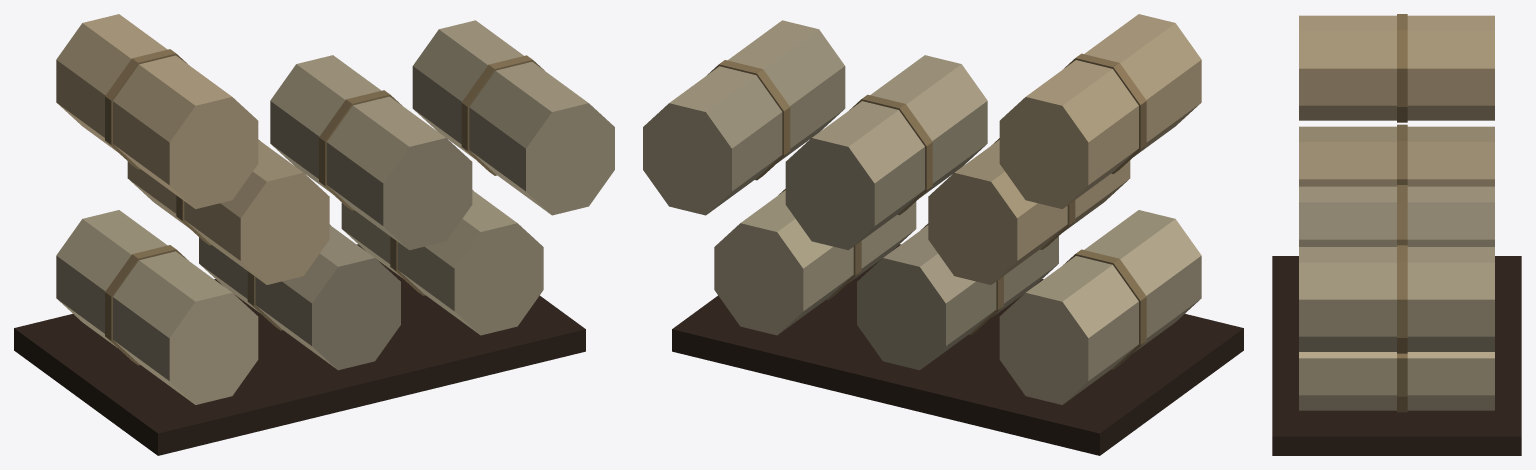
The model's file is walk_prop_fleece_bales.glb.
3 renders of one model, left to right at view 1: azimuth 30°, elevation 25°; view 2: azimuth 150°, elevation 25°; view 3: azimuth 270°, elevation 25°, orthographic. The views are drawn at different scales.
Visible parts, largest first — view 1: walk_prop_fleece_bales; view 2: walk_prop_fleece_bales; view 3: walk_prop_fleece_bales.
Part boxes in pixels (x1=…): walk_prop_fleece_bales: x1=14, y1=14, x2=614, y2=455; walk_prop_fleece_bales: x1=643, y1=14, x2=1243, y2=455; walk_prop_fleece_bales: x1=1272, y1=14, x2=1521, y2=455.
Size of what is drawn, in the model's own units: 2.66 by 1.76 by 1.4.
1 material, 1 textured.
